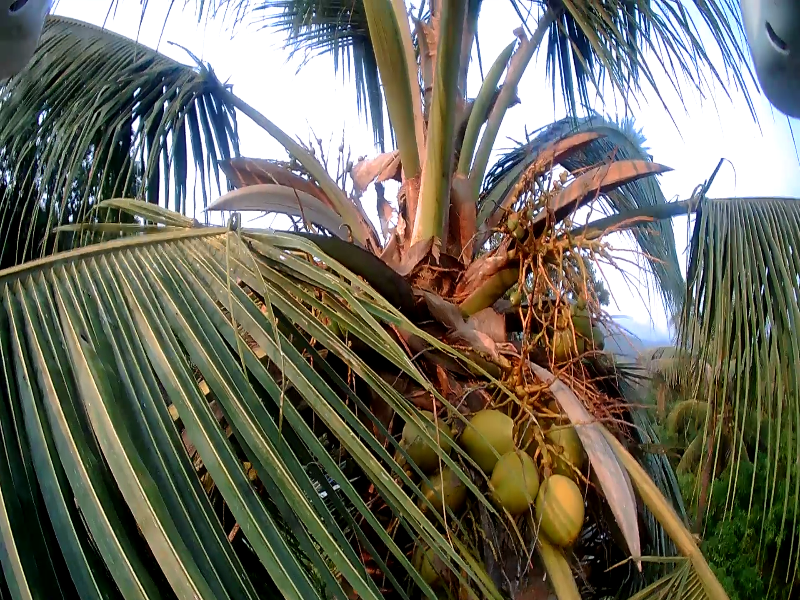coconut: (525, 473, 577, 534), (464, 410, 518, 462), (496, 448, 540, 505), (401, 407, 445, 460), (543, 424, 582, 478), (417, 471, 460, 519), (409, 535, 449, 582), (545, 320, 581, 356), (584, 327, 612, 352), (568, 313, 591, 331)
